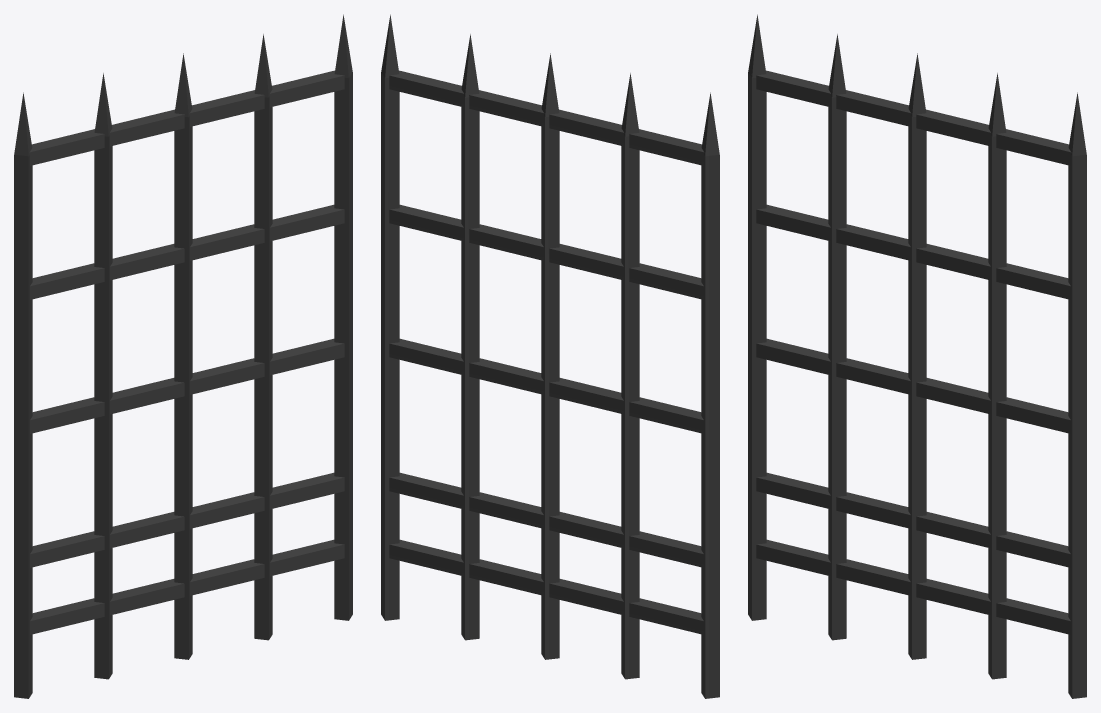
File: IronFence1.glb
The picture shows the model from 3 angles, left to right: view 1: azimuth 30°, elevation 25°; view 2: azimuth 150°, elevation 25°; view 3: azimuth 330°, elevation 25°; orthographic projection.
Visible parts, largest first — view 1: Cube; view 2: Cube; view 3: Cube.
Boxes of the visible parts, bbox=[...] form: Cube: bbox=[14, 14, 352, 698]; Cube: bbox=[381, 14, 719, 698]; Cube: bbox=[748, 14, 1086, 698].
Size of the model in its own units: 1.06 by 1.8 by 0.0581.
1 material, 1 textured.
